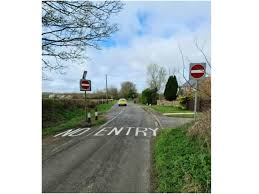No entry: (189, 63, 206, 80), (79, 80, 91, 91)
